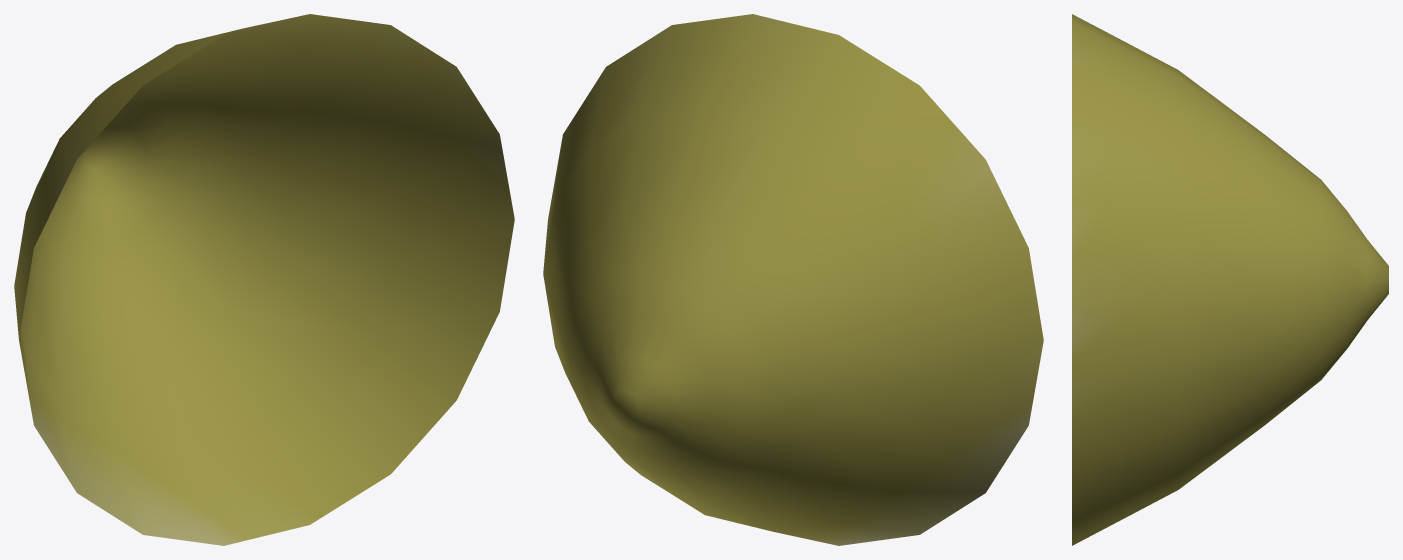
The model's file is bolt.glb.
3 views of the same model, side by side, from view 1: azimuth 30°, elevation 25°; view 2: azimuth 150°, elevation 25°; view 3: azimuth 270°, elevation 25° (orthographic). The views are drawn at different scales.
Visible parts, largest first — view 1: FLBolt; view 2: FLBolt; view 3: FLBolt.
Part boxes in pixels (left/top/right/bottom): FLBolt: left=14, top=14, right=514, bottom=545; FLBolt: left=543, top=14, right=1043, bottom=545; FLBolt: left=1072, top=14, right=1388, bottom=545.
Size of the model in its own units: 0.0628 by 0.0619 by 0.0373.
1 material, 1 textured.
